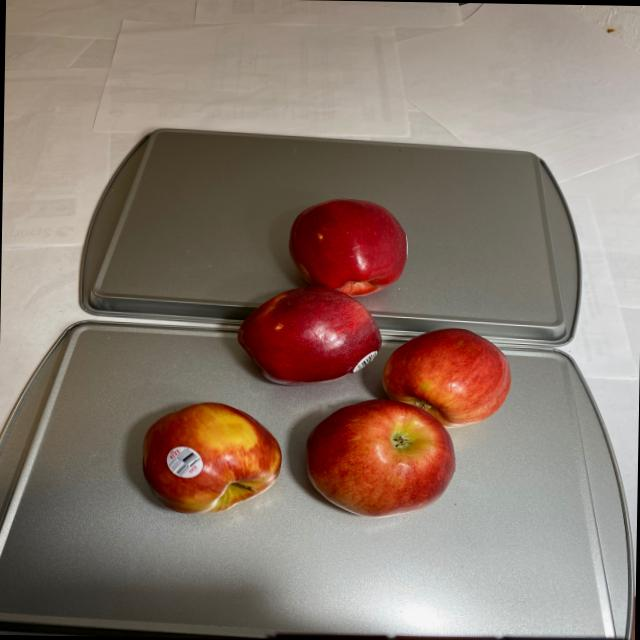apple: (140, 193, 513, 516)
